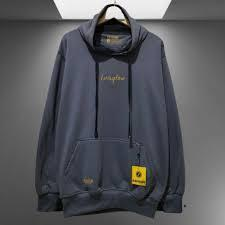sweater: (31, 10, 187, 219)
